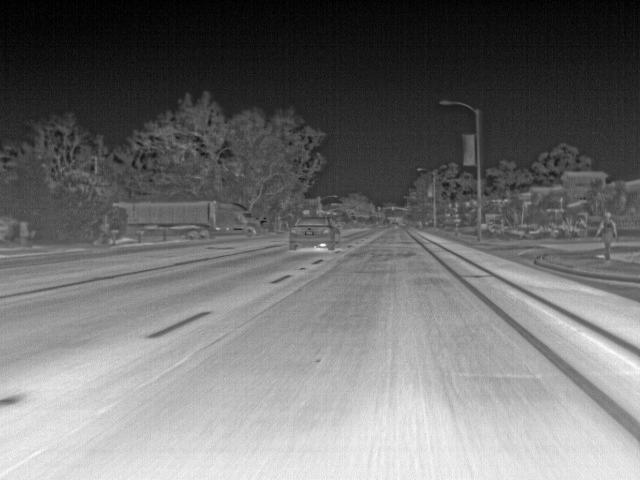car: (288, 215, 341, 250)
person: (596, 210, 619, 259)
